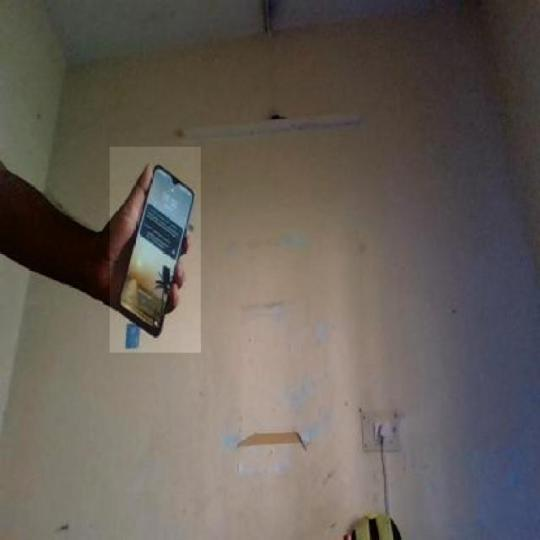phone: (112, 165, 215, 343)
